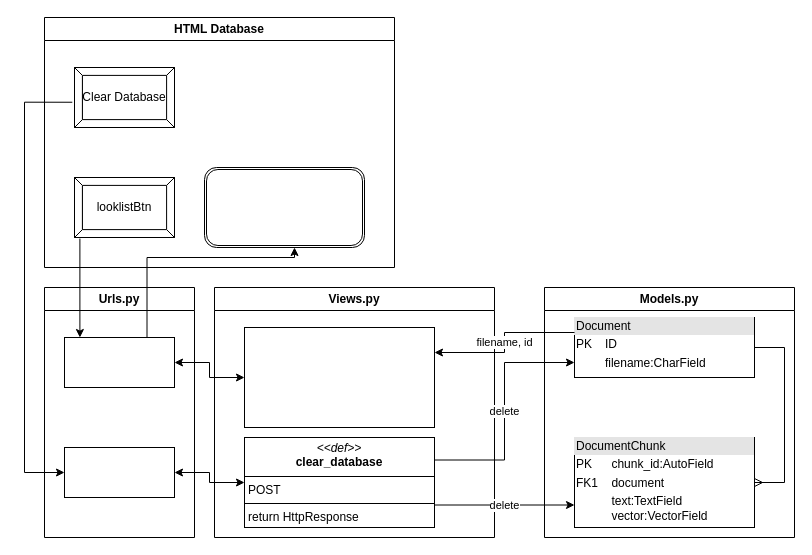
This 812x555 diagram has some shape labels left out. Here are the shapes that lost their labels. From the top down, the centre of each, then its label:
(284,207): documentsForm
(119,362): «url» get-documents/
(339,377): <<def>> get_documents POST JsonResponse([{"id","filename"}] )
(119,472): «url» clear-database/
